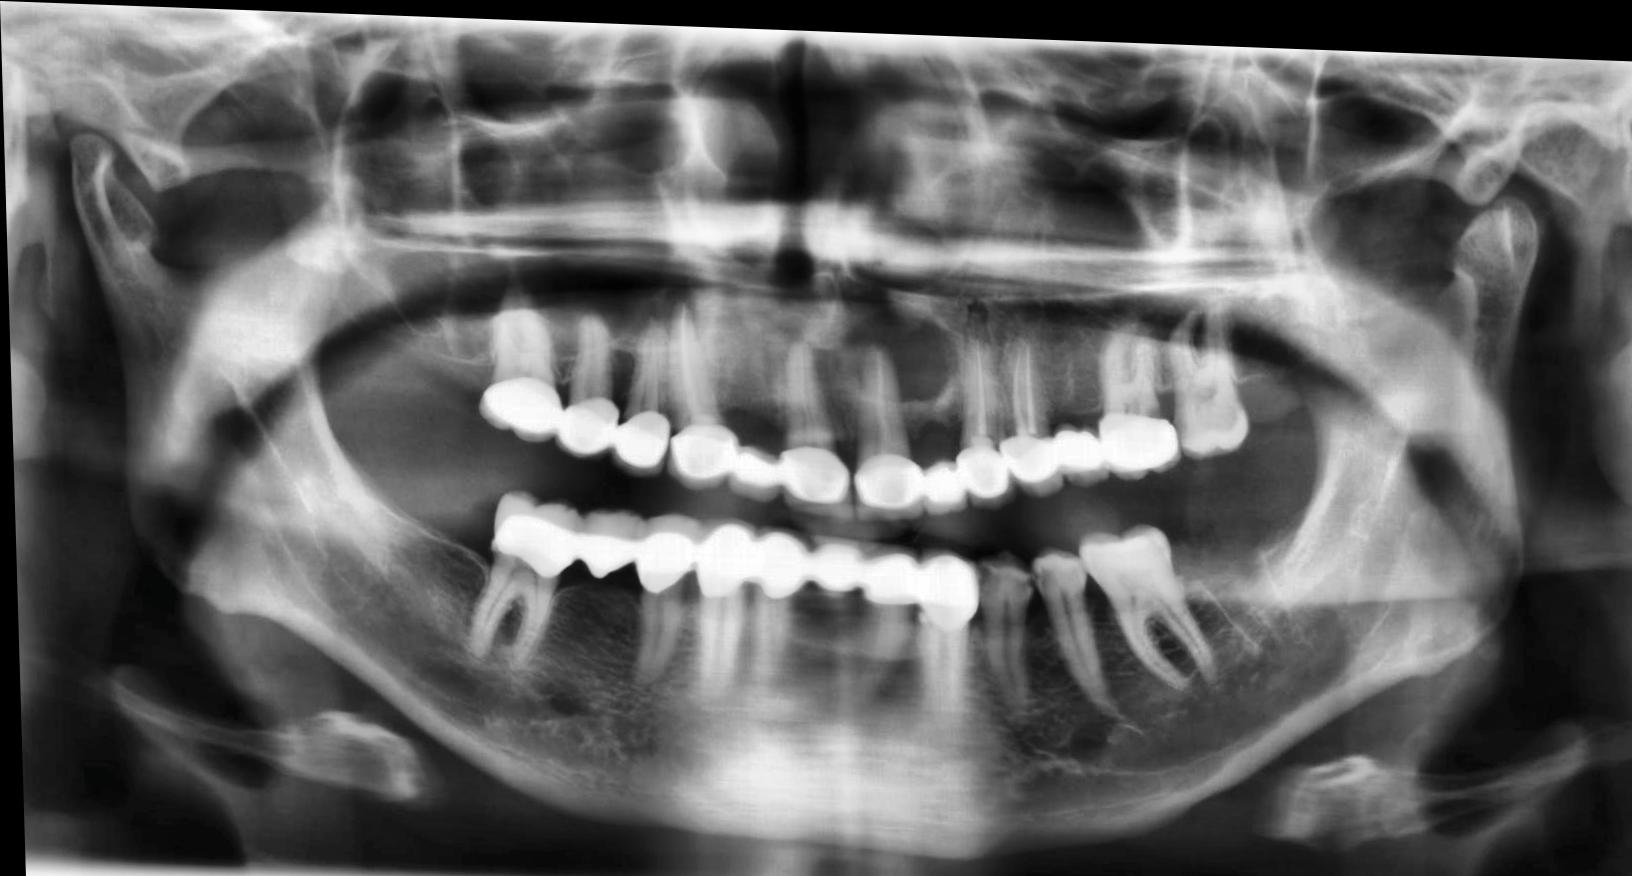radicular: (832, 296, 960, 399)
